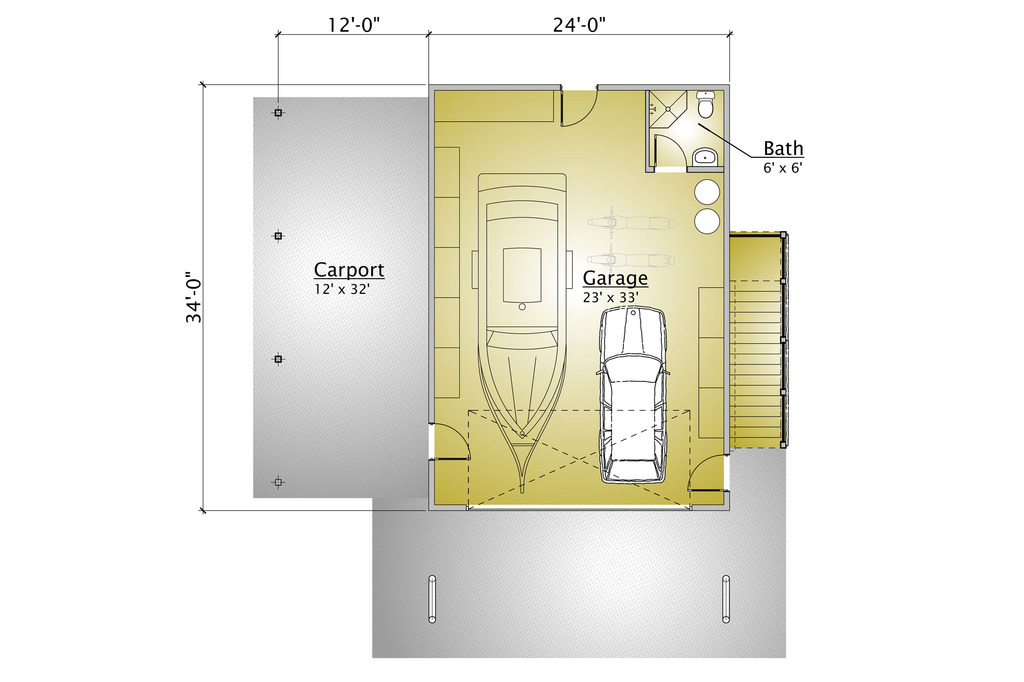door: (421, 422, 480, 470), (645, 123, 693, 176), (687, 449, 736, 497), (553, 81, 599, 130)
large_sink: (698, 87, 719, 122)
small_sink: (689, 142, 722, 177)
stairs: (723, 233, 790, 455)
